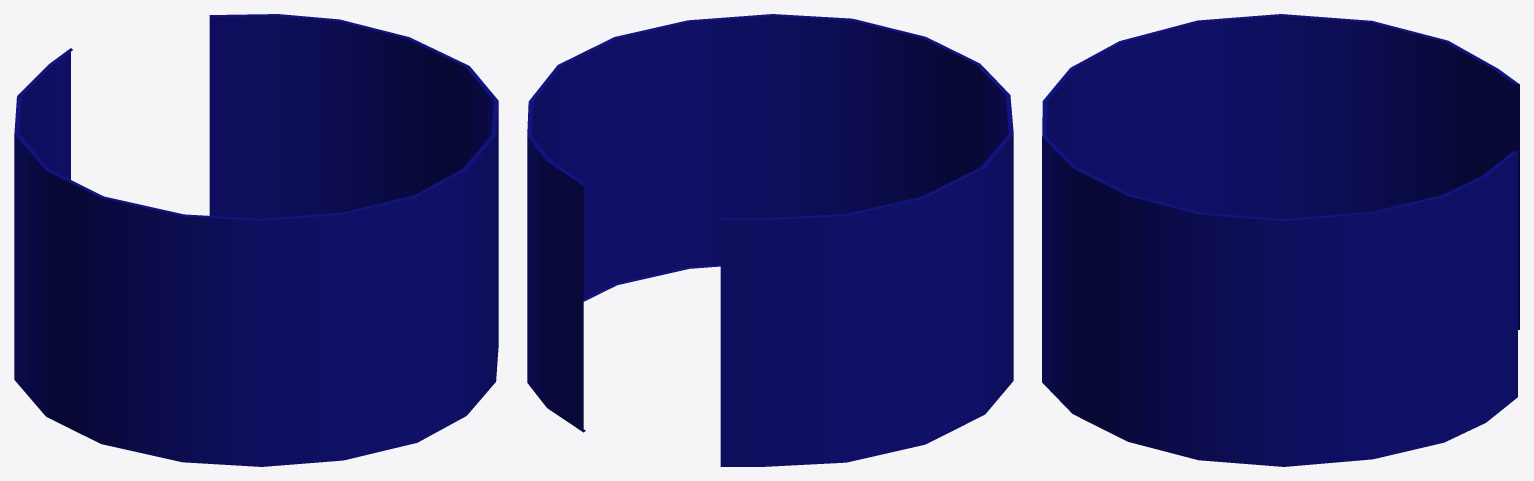
File: glass.obj
3 views of the same model, side by side, from view 1: azimuth 30°, elevation 25°; view 2: azimuth 150°, elevation 25°; view 3: azimuth 270°, elevation 25° (orthographic).
Visible parts, largest first — view 1: Cylinder006; view 2: Cylinder006; view 3: Cylinder006.
Boxes of the visible parts, x1,y1,x2,y2 form: Cylinder006: (14, 14, 498, 466); Cylinder006: (527, 14, 1013, 466); Cylinder006: (1042, 14, 1519, 466).
Size of the model in its own units: 7891 by 4365 by 7688.
